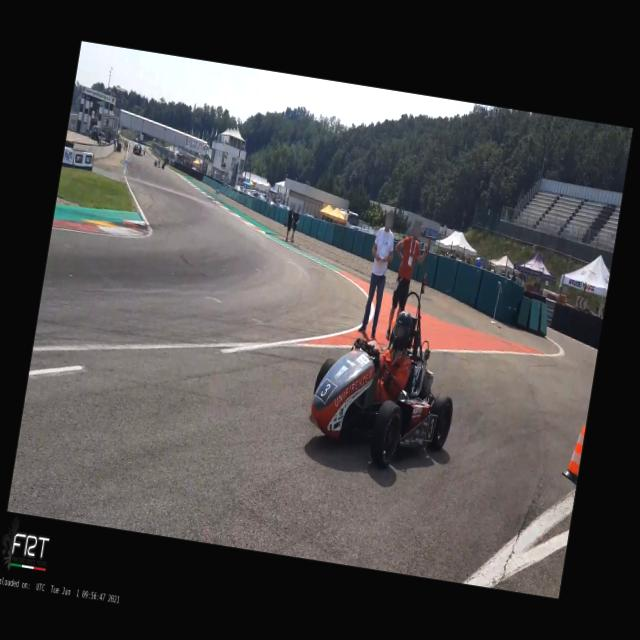large_orange_cone: (560, 424, 586, 484), (388, 322, 396, 348)
